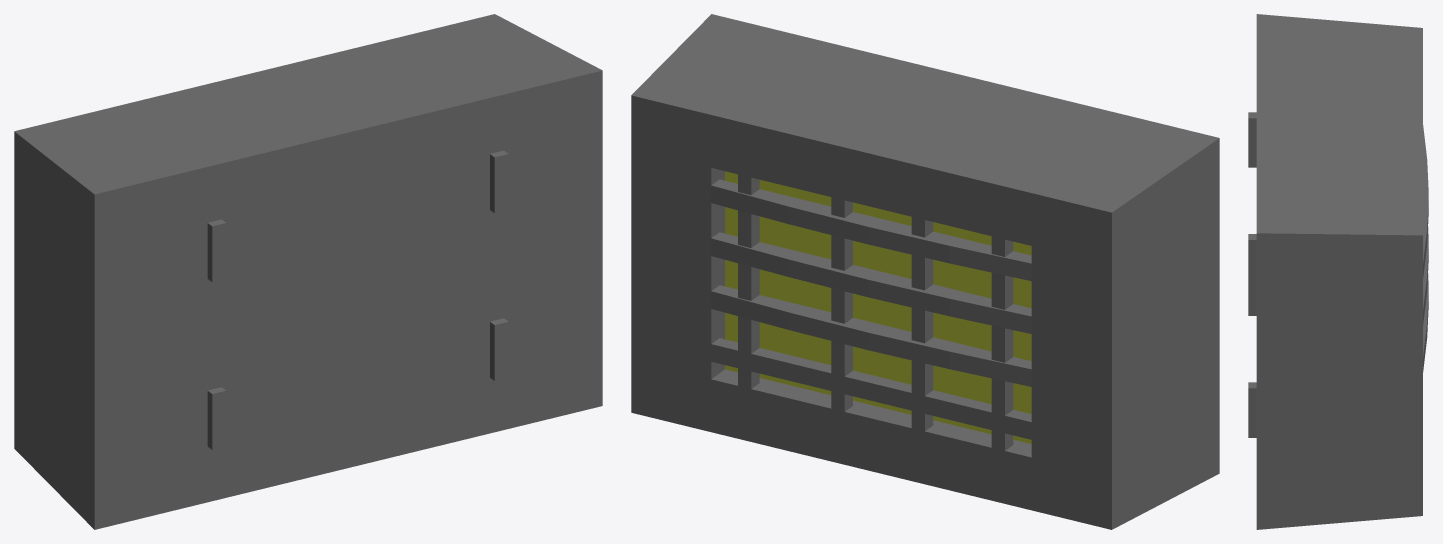
File: LAMP.fbx
The picture shows the model from 3 angles, left to right: view 1: azimuth 30°, elevation 25°; view 2: azimuth 150°, elevation 25°; view 3: azimuth 270°, elevation 25°; orthographic projection. The views are drawn at different scales.
Parts seen in each view (by area): view 1: Cube.001; view 2: Cube.001; view 3: Cube.001.
Boxes of the visible parts, x1,y1,x2,y2 form: Cube.001: (14,14,602,529); Cube.001: (631,14,1219,529); Cube.001: (1248,14,1428,529).
Size of the model in its own units: 335 by 211 by 117.
